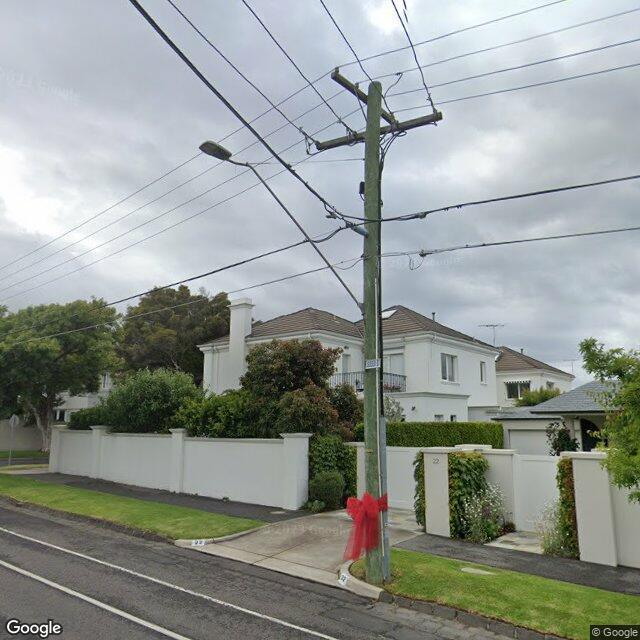crossarm: (316, 112, 442, 150), (331, 72, 395, 126)
streetlight: (200, 140, 364, 316)
timber-pole: (364, 81, 386, 584)
